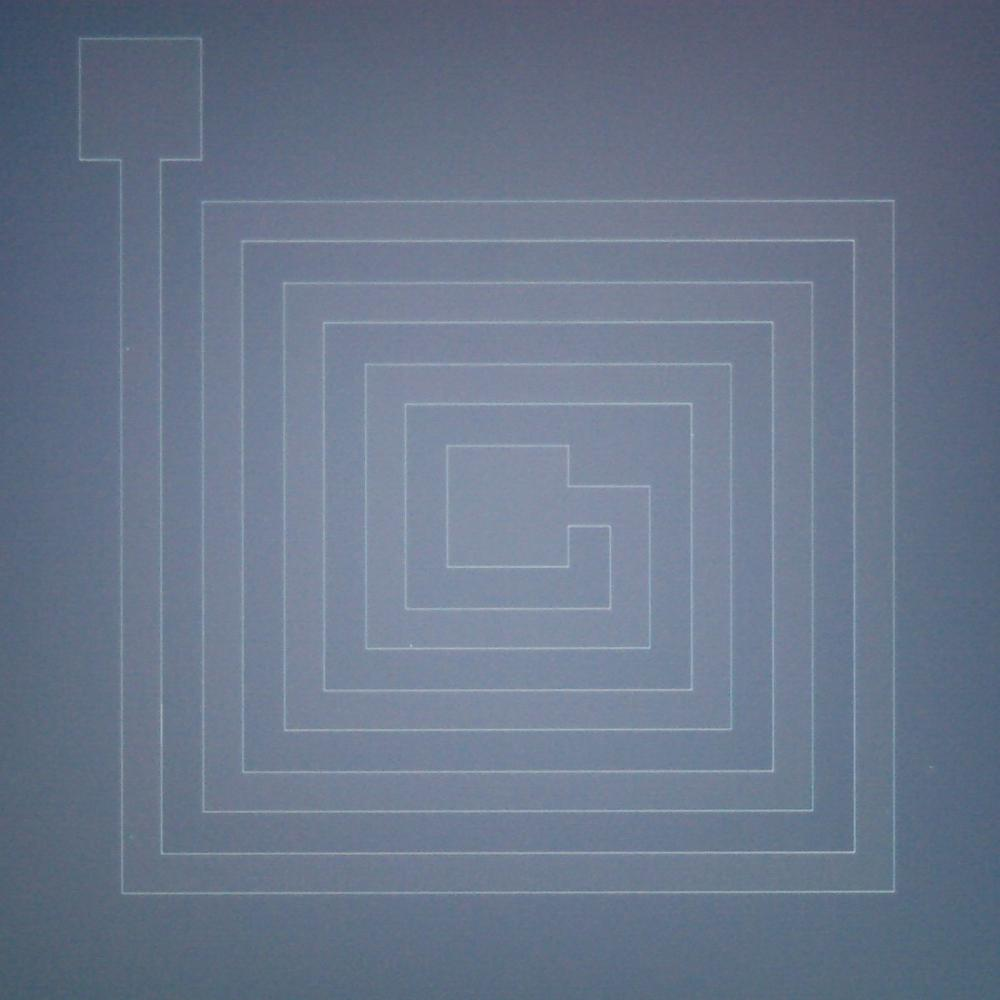dot: (126, 347, 130, 351), (410, 644, 413, 647)
